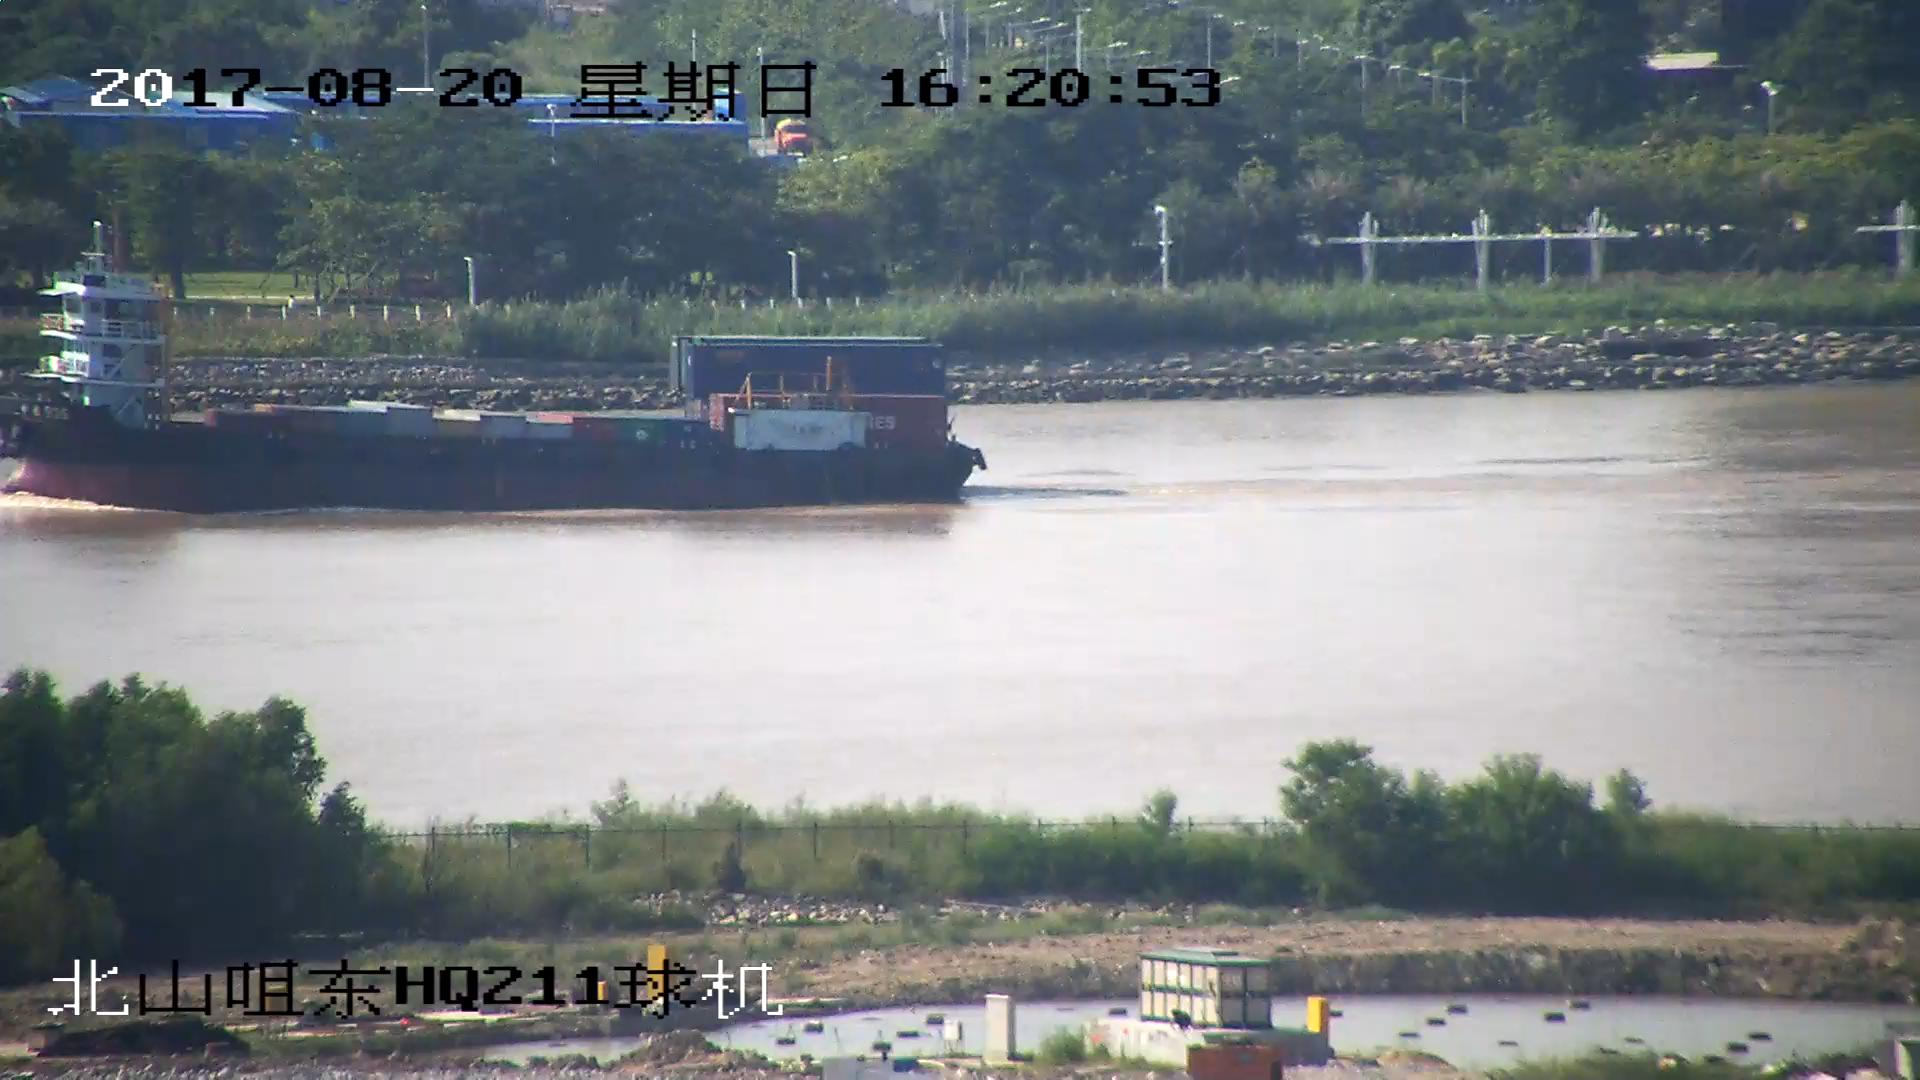container ship: (8, 214, 988, 512)
